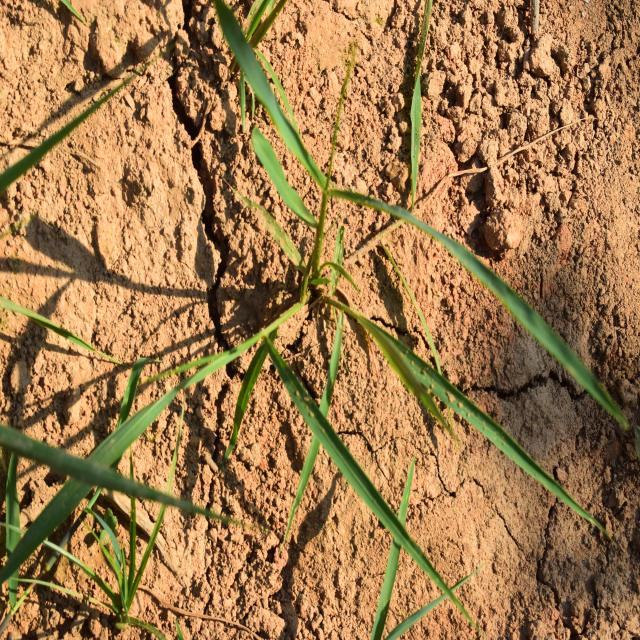green_foxtail: (148, 80, 526, 540)
